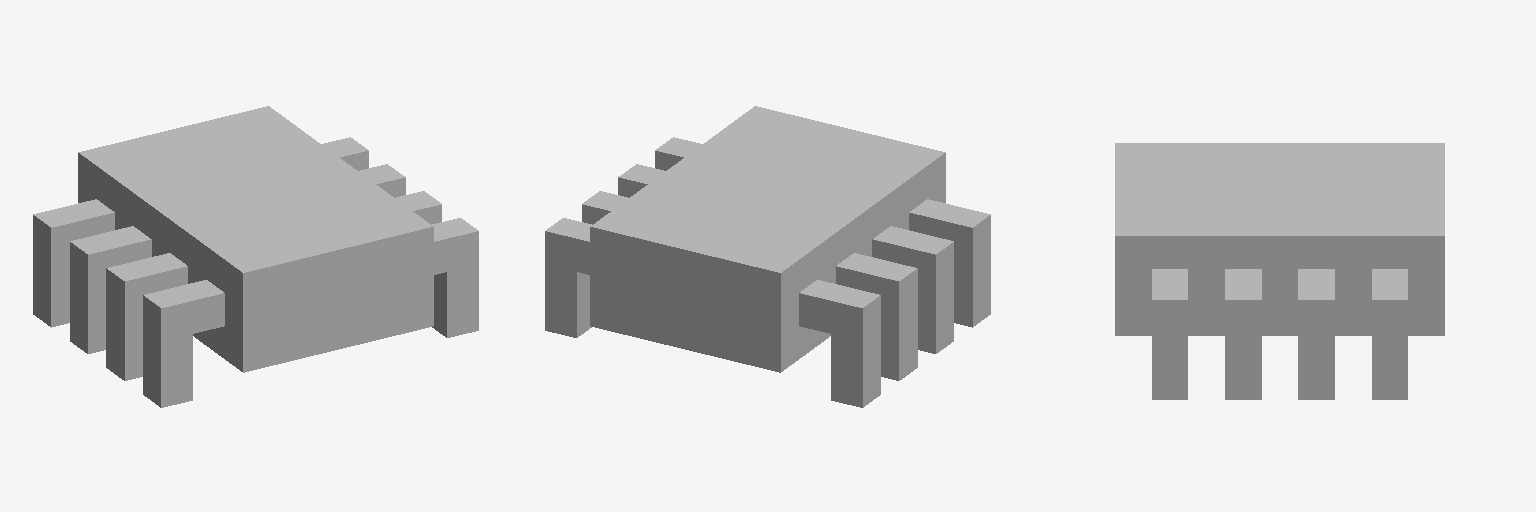
The model's file is BugBot.obj.
3 views of the same model, side by side, from view 1: azimuth 30°, elevation 25°; view 2: azimuth 150°, elevation 25°; view 3: azimuth 270°, elevation 25° (orthographic).
Parts seen in each view (by area): view 1: cube; view 2: cube; view 3: cube.
Boxes of the visible parts, x1=… form: cube: x1=33, y1=106, x2=478, y2=407; cube: x1=545, y1=106, x2=990, y2=407; cube: x1=1115, y1=143, x2=1444, y2=399.
Size of the model in its own units: 0.625 by 0.25 by 0.5625.